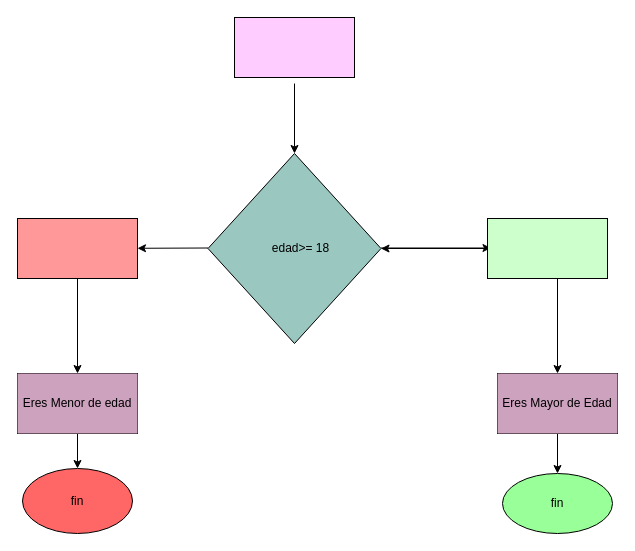
This 635x551 diagram has some shape labels left out. The centre of each missing label's shape, as x and y in pixels:
False: the point at 77,248
input edad: the point at 294,47
True: the point at 547,248
